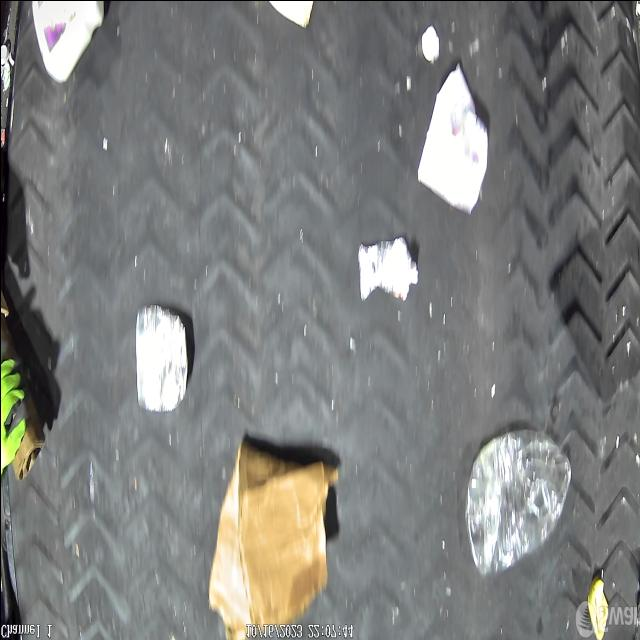can: (134, 304, 190, 416), (584, 574, 610, 640)
non_white_jug: (31, 0, 107, 87)
plastic_bottle: (464, 428, 570, 576)
